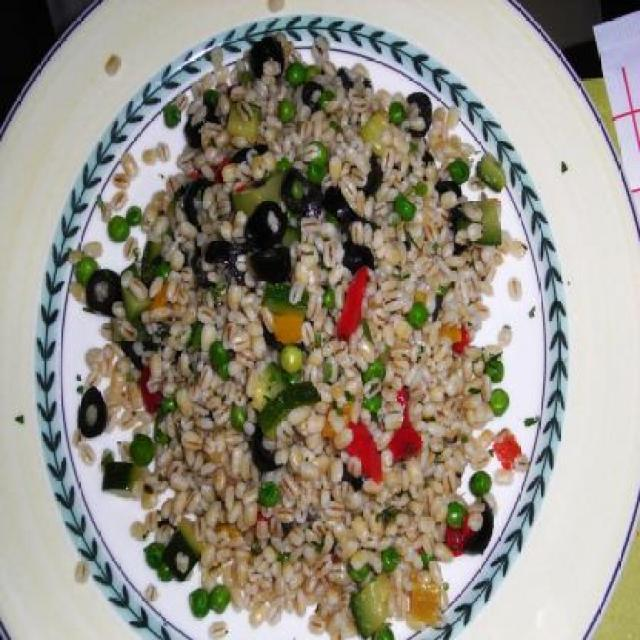Salad: (64, 32, 528, 640)
